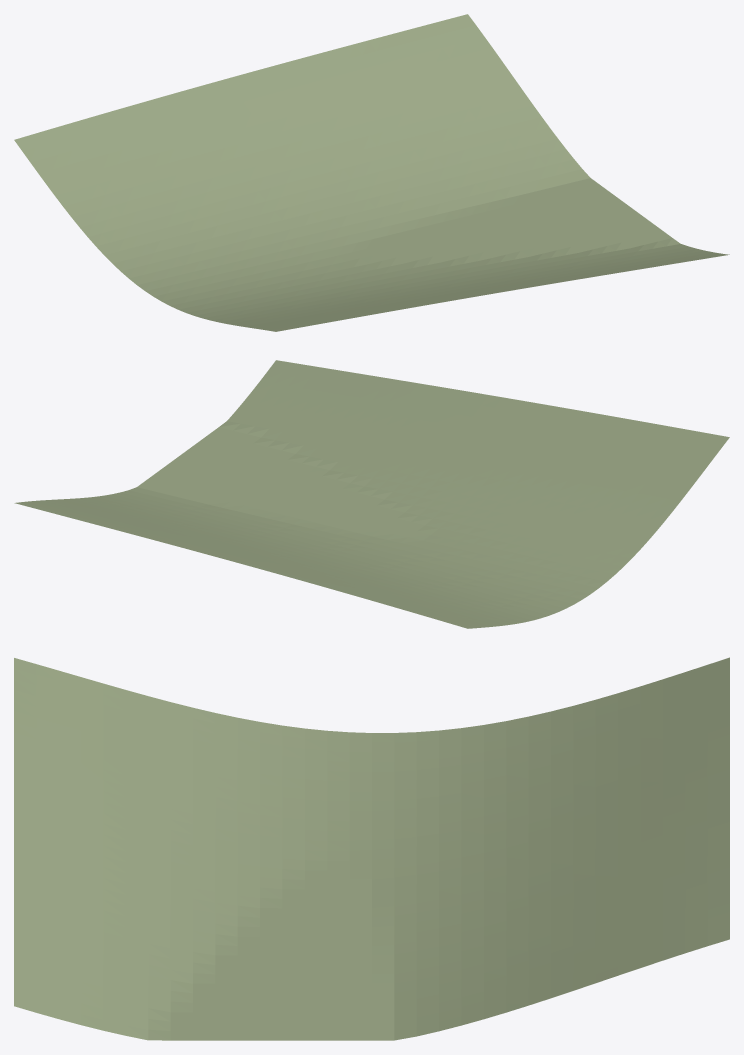
Rendered from expanse-3-5.glb.
The picture shows the model from 3 angles, top to bottom: view 1: azimuth 30°, elevation 25°; view 2: azimuth 150°, elevation 25°; view 3: azimuth 270°, elevation 25°; orthographic projection. The views are drawn at different scales.
Visible parts, largest first — view 1: expanse-3-5; view 2: expanse-3-5; view 3: expanse-3-5.
Boxes of the visible parts, x1,y1,x2,y2 form: expanse-3-5: (14, 14, 729, 331); expanse-3-5: (14, 360, 729, 628); expanse-3-5: (14, 657, 729, 1040).
Bounding box in the file's own units: 256 × 39.89 × 256.
